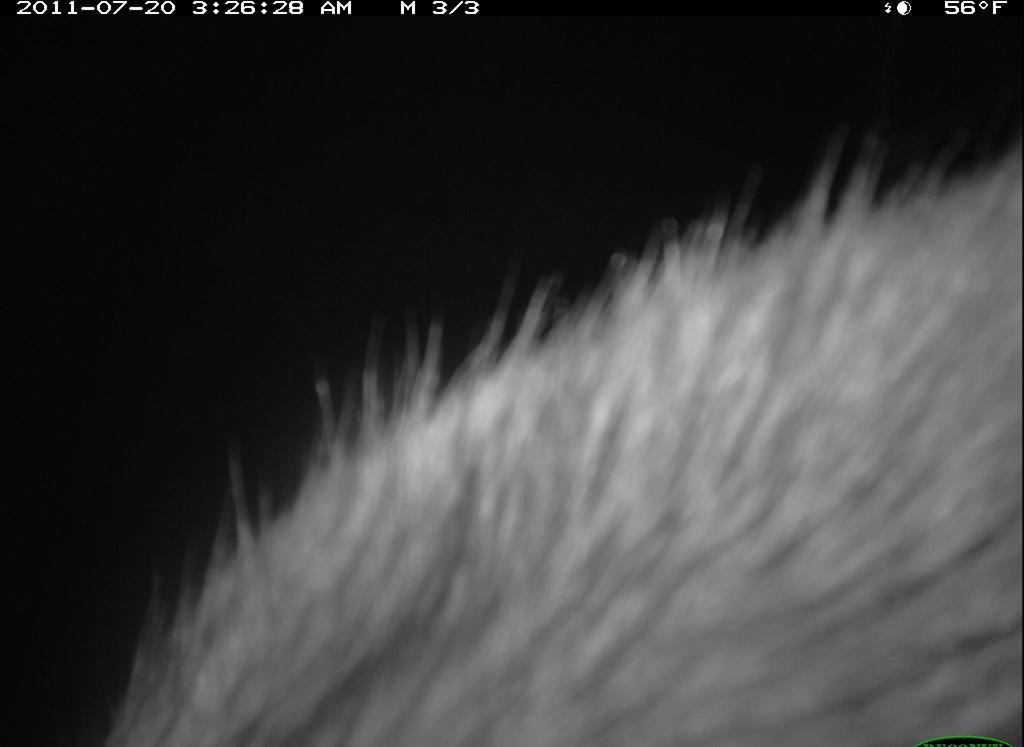raccoon: (105, 143, 1018, 721)
